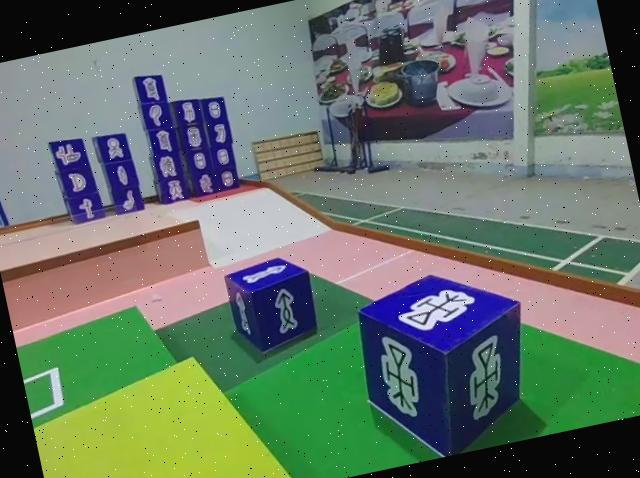R2 Real Blue: (349, 256, 549, 470), (219, 251, 323, 360)
